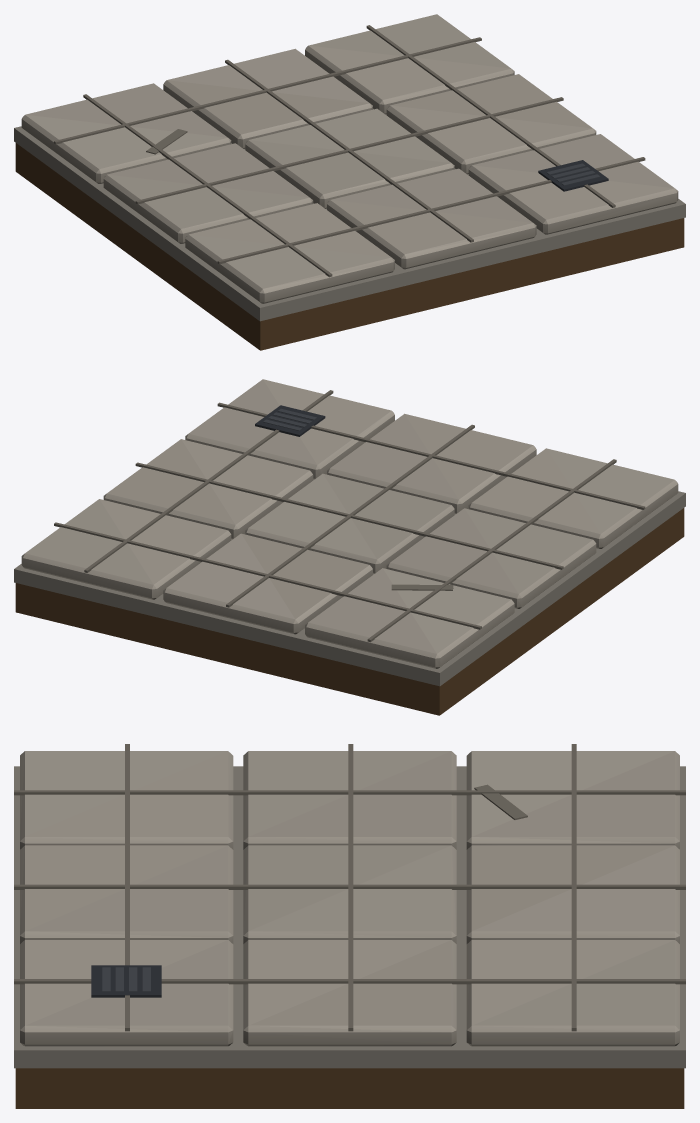
The model's file is plaza-paving-01.glb.
The picture shows the model from 3 angles, top to bottom: view 1: azimuth 30°, elevation 25°; view 2: azimuth 150°, elevation 25°; view 3: azimuth 270°, elevation 25°; orthographic projection. The views are drawn at different scales.
Parts seen in each view (by area): view 1: plaza_paving_01; view 2: plaza_paving_01; view 3: plaza_paving_01.
Boxes of the visible parts, <box> form: plaza_paving_01: <box>14,14,685,350</box>; plaza_paving_01: <box>14,379,685,715</box>; plaza_paving_01: <box>14,744,685,1108</box>.
Bounding box in the file's own units: 4 × 0.5425 × 4.
